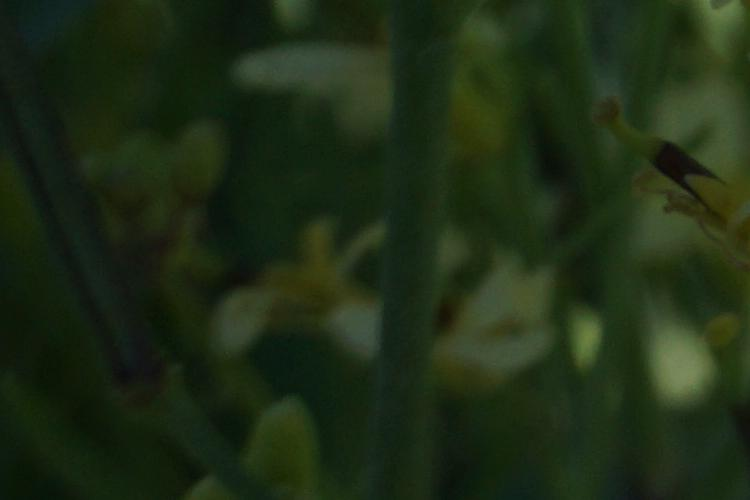pod: (579, 91, 741, 215)
